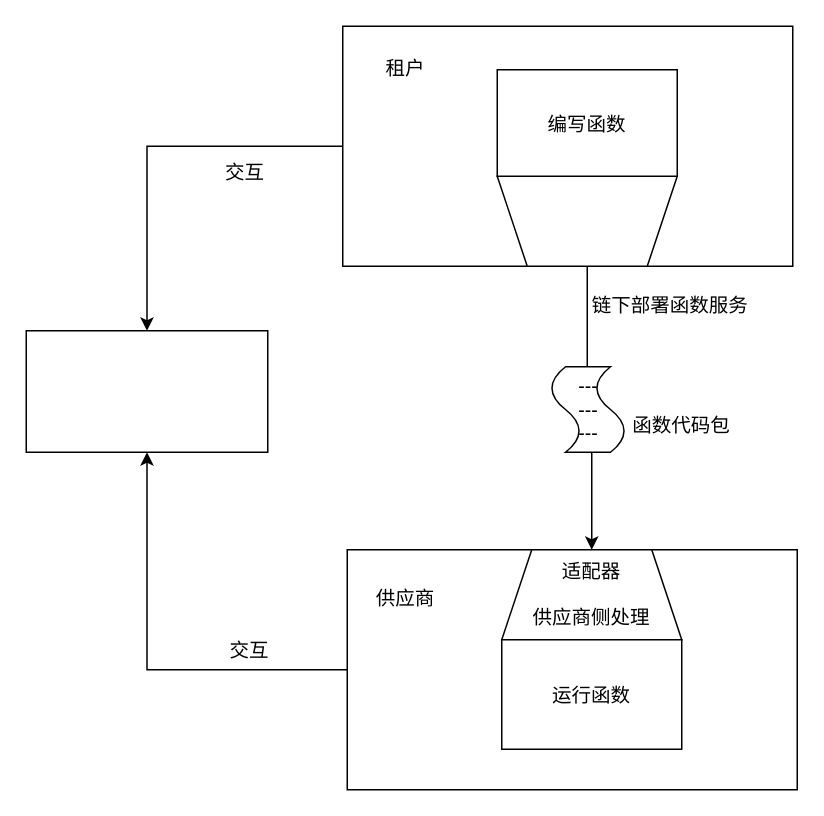
Some shapes in this 824 by 816 pixel diagram are drawn without their labels. The shapes that lost their labels are listed below. From the top down, each one's box as (x1, y1, x2, y2) in pixels, then its label:
(496, 175, 677, 266): 适配器 租户测处理
(25, 329, 268, 452): DeFaaS 平台
